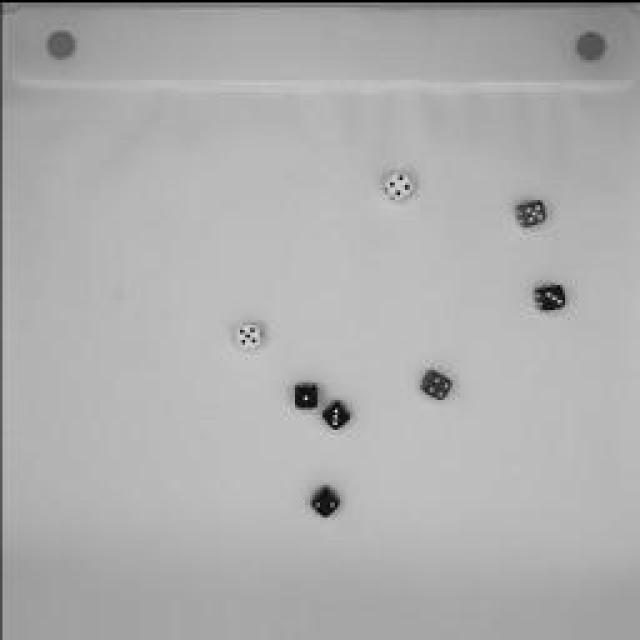dice_1: (290, 376, 320, 409)
dice_2: (305, 484, 343, 518)
dice_3: (318, 396, 352, 432), (530, 278, 565, 312)
dice_4: (377, 166, 415, 204), (418, 364, 452, 401)
dice_5: (511, 195, 549, 233), (232, 315, 268, 350)
